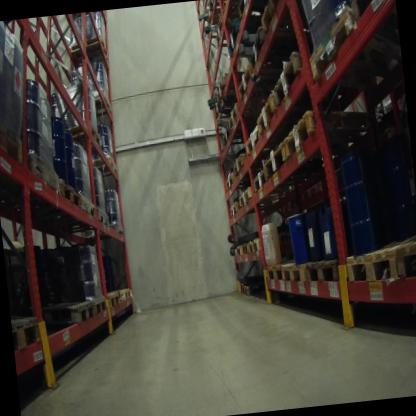pallet: (302, 0, 402, 98), (261, 131, 360, 189), (283, 105, 384, 160), (268, 42, 339, 112), (344, 229, 416, 291), (246, 18, 323, 69), (257, 0, 321, 41), (63, 29, 116, 76), (244, 125, 276, 196), (304, 250, 355, 291), (12, 307, 53, 356), (234, 55, 276, 102), (211, 10, 248, 63), (0, 105, 30, 165), (50, 295, 97, 332), (25, 154, 58, 202), (281, 252, 329, 285), (65, 116, 104, 154), (228, 100, 270, 135), (253, 90, 286, 133), (212, 70, 249, 108), (220, 121, 261, 150), (397, 229, 416, 281), (56, 177, 83, 213), (241, 279, 270, 309), (231, 148, 257, 181), (86, 88, 113, 118), (92, 149, 118, 180), (347, 0, 396, 16), (238, 182, 259, 218), (222, 168, 246, 198), (93, 286, 111, 323), (76, 189, 97, 220), (95, 203, 114, 237), (105, 284, 125, 313), (116, 284, 135, 309), (225, 198, 242, 220), (233, 241, 249, 259)
